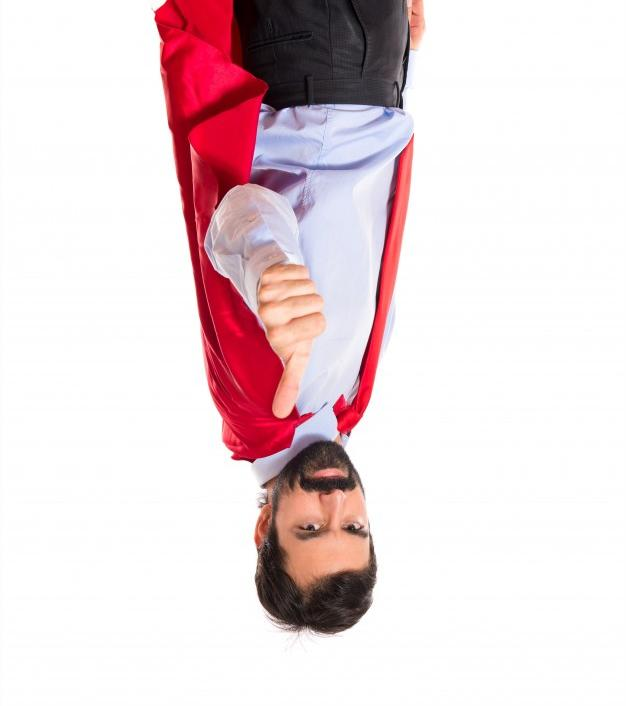thumbsdown: (257, 264, 326, 418)
